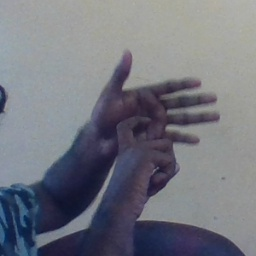R: (85, 50, 227, 193)
